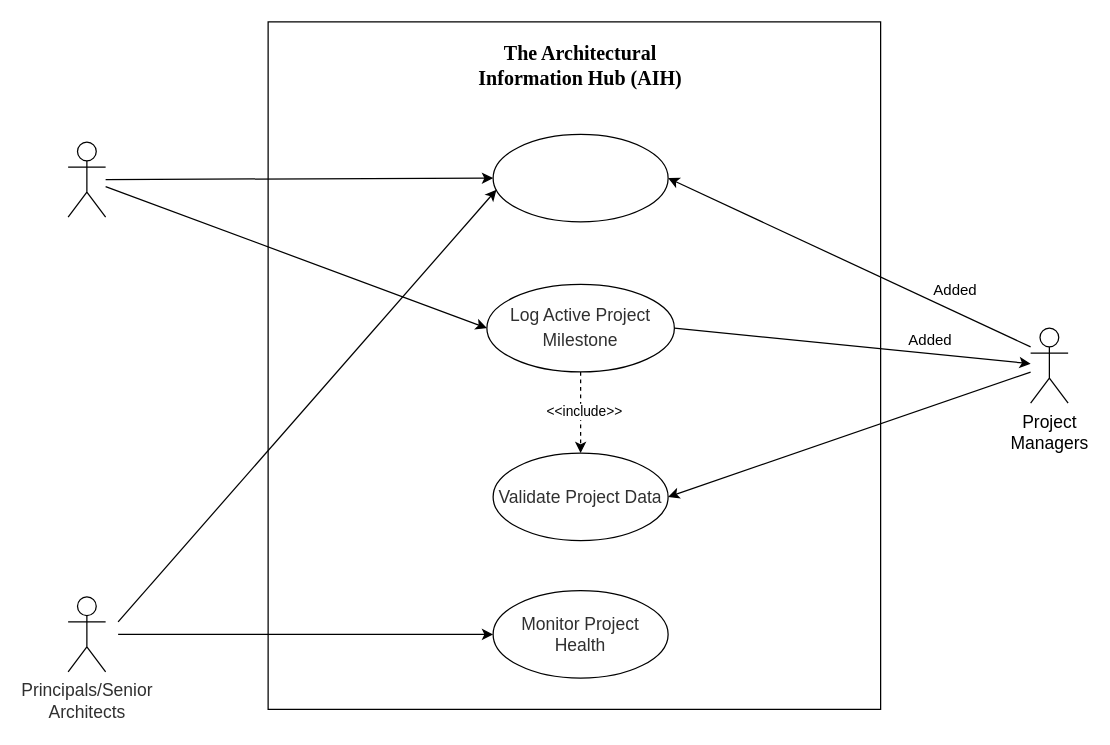
Image size: 1110x745. Some labels were removed from this diagram. Here are the shapes that lost their labels. From the top down, the centre of each, then its label:
At pixel 86 179: "Operational Layer & Advisory Layer Staff".
At pixel 580 177: "Retrieve Project Information".
